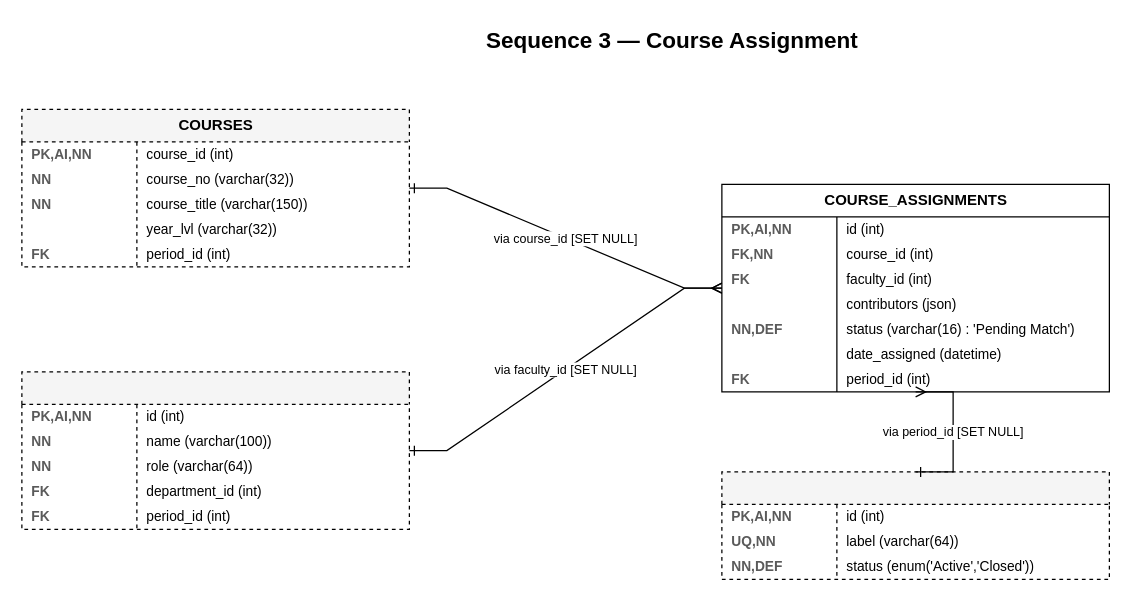
Image size: 1131x601. Some labels were removed from this diagram. Each missing label, with the box of its shape:
ACADEMIC_PERIODS: (721, 471, 1109, 579)
FACULTY: (21, 371, 409, 529)
